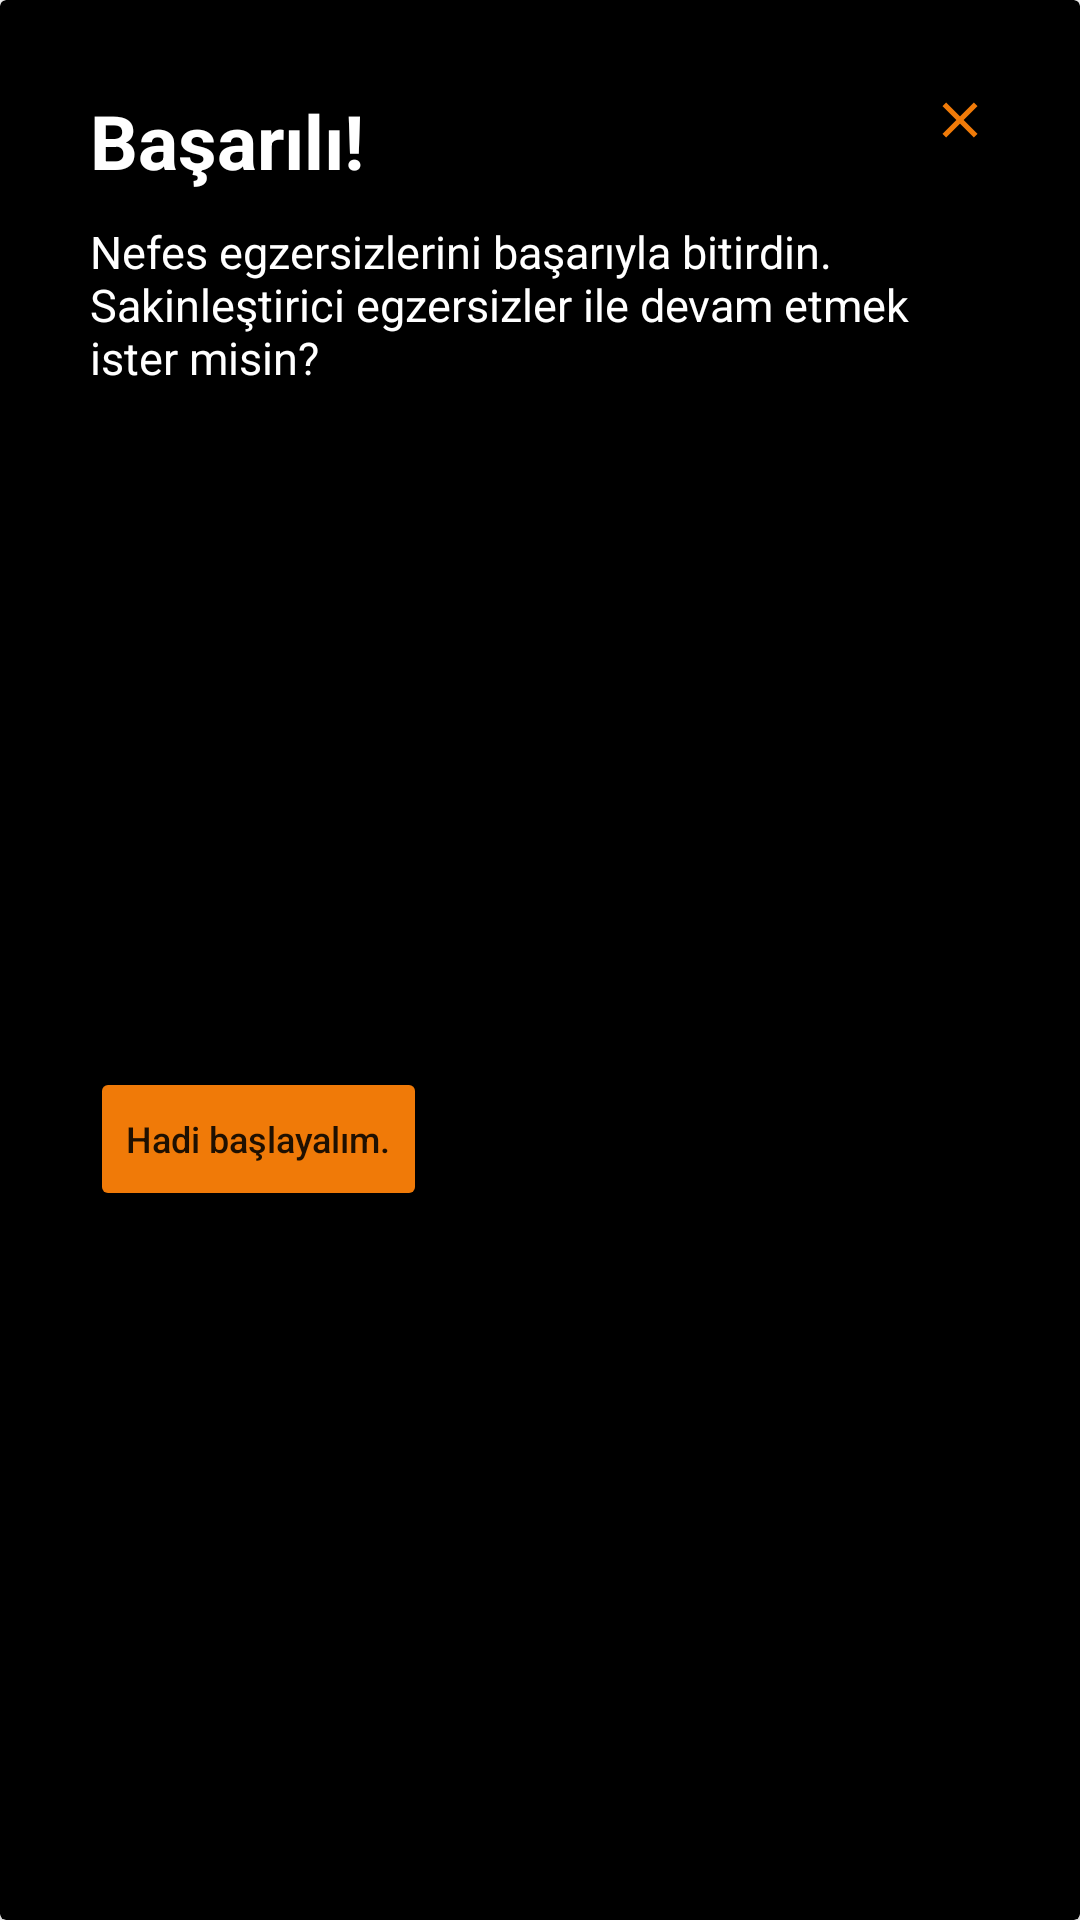

Icons on this 1080 × 1920 Android screen, each with its box as (x1, y1, x2, y2):
close: (942, 102, 978, 138)
